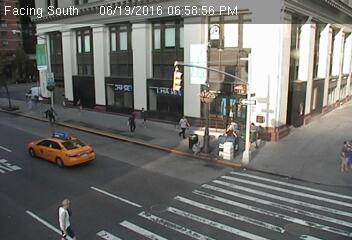neg: (164, 71, 187, 102), (201, 144, 224, 174), (286, 98, 307, 127)
pos: (119, 110, 142, 141), (72, 94, 89, 117)
